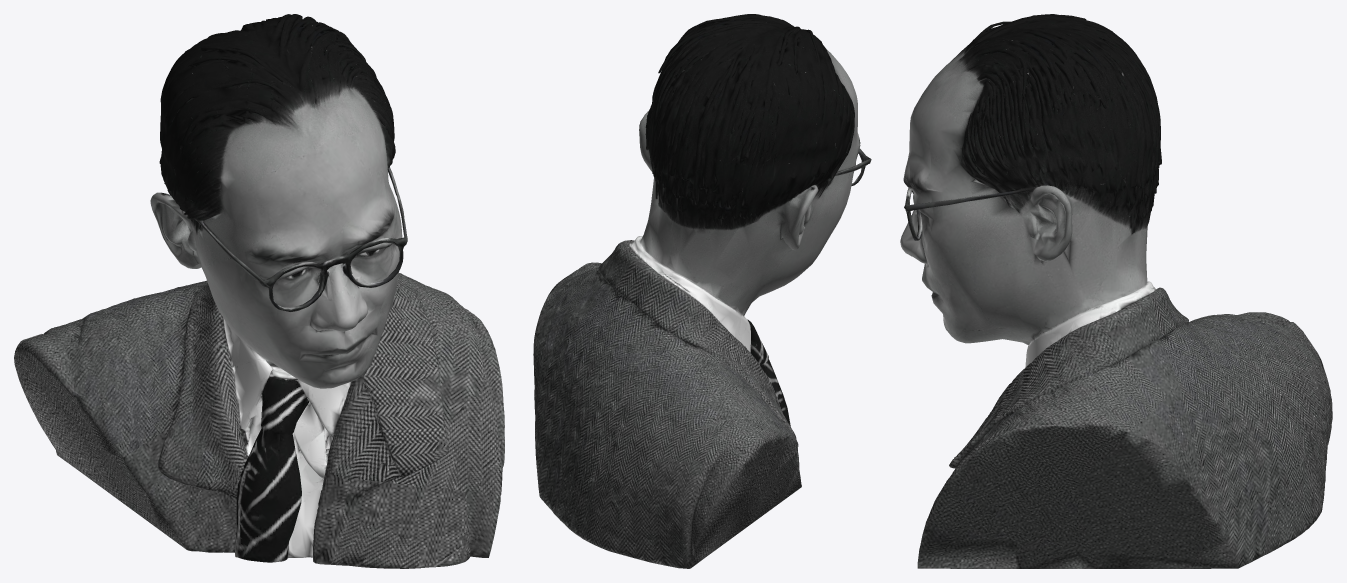
Rendered from yukawa.glb.
3 renders of one model, left to right at view 1: azimuth 30°, elevation 25°; view 2: azimuth 150°, elevation 25°; view 3: azimuth 270°, elevation 25°, orthographic. The views are drawn at different scales.
Bounding box in the file's own units: 1.28 × 1.9 × 1.56.
1 material, 1 textured.
